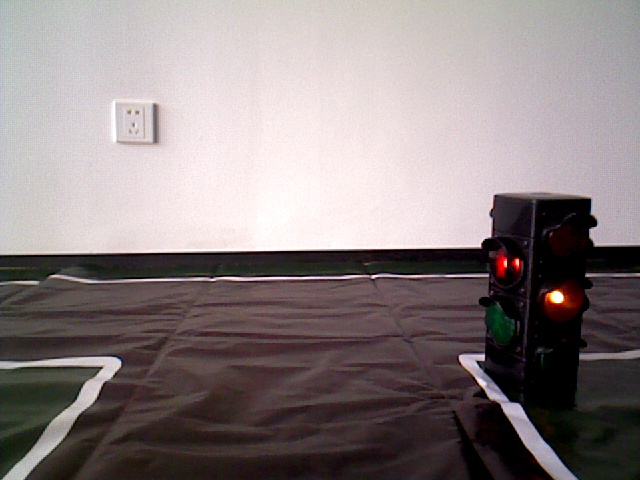yellow: (483, 194, 586, 405)
